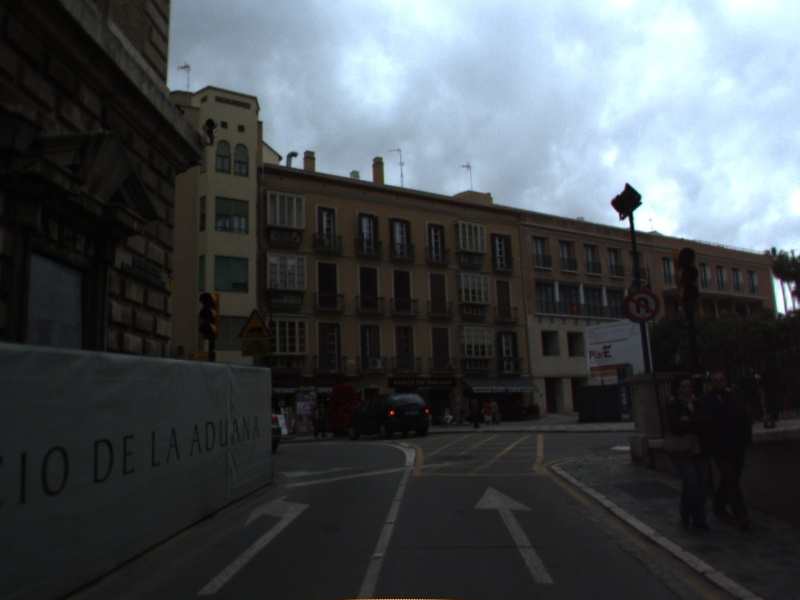LEFT: (194, 491, 313, 597)
STRAIGHT: (472, 483, 556, 586)
